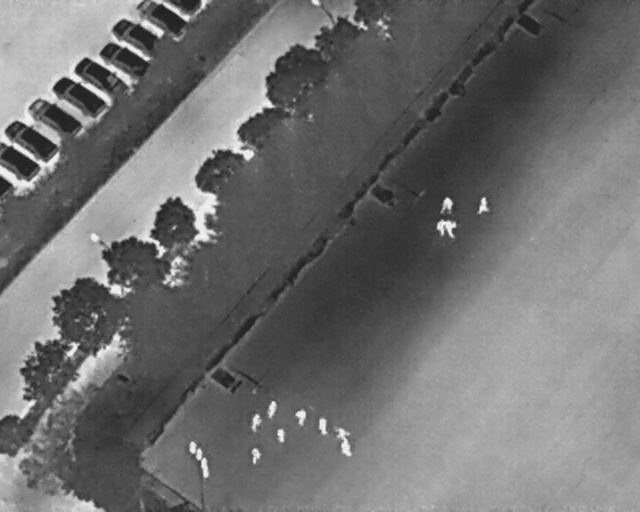Car: (68, 49, 138, 108), (22, 89, 88, 145), (47, 69, 112, 125), (0, 110, 62, 168), (106, 11, 168, 65), (94, 33, 155, 87), (134, 0, 189, 42), (0, 138, 42, 182), (163, 0, 205, 18), (0, 174, 16, 202)
Person: (438, 194, 456, 217), (476, 193, 492, 217), (339, 435, 354, 459), (292, 408, 308, 429), (248, 445, 263, 467), (334, 426, 353, 443), (444, 219, 458, 241), (249, 410, 263, 432), (315, 416, 329, 436), (434, 217, 447, 238), (265, 399, 278, 419), (275, 427, 287, 446)
